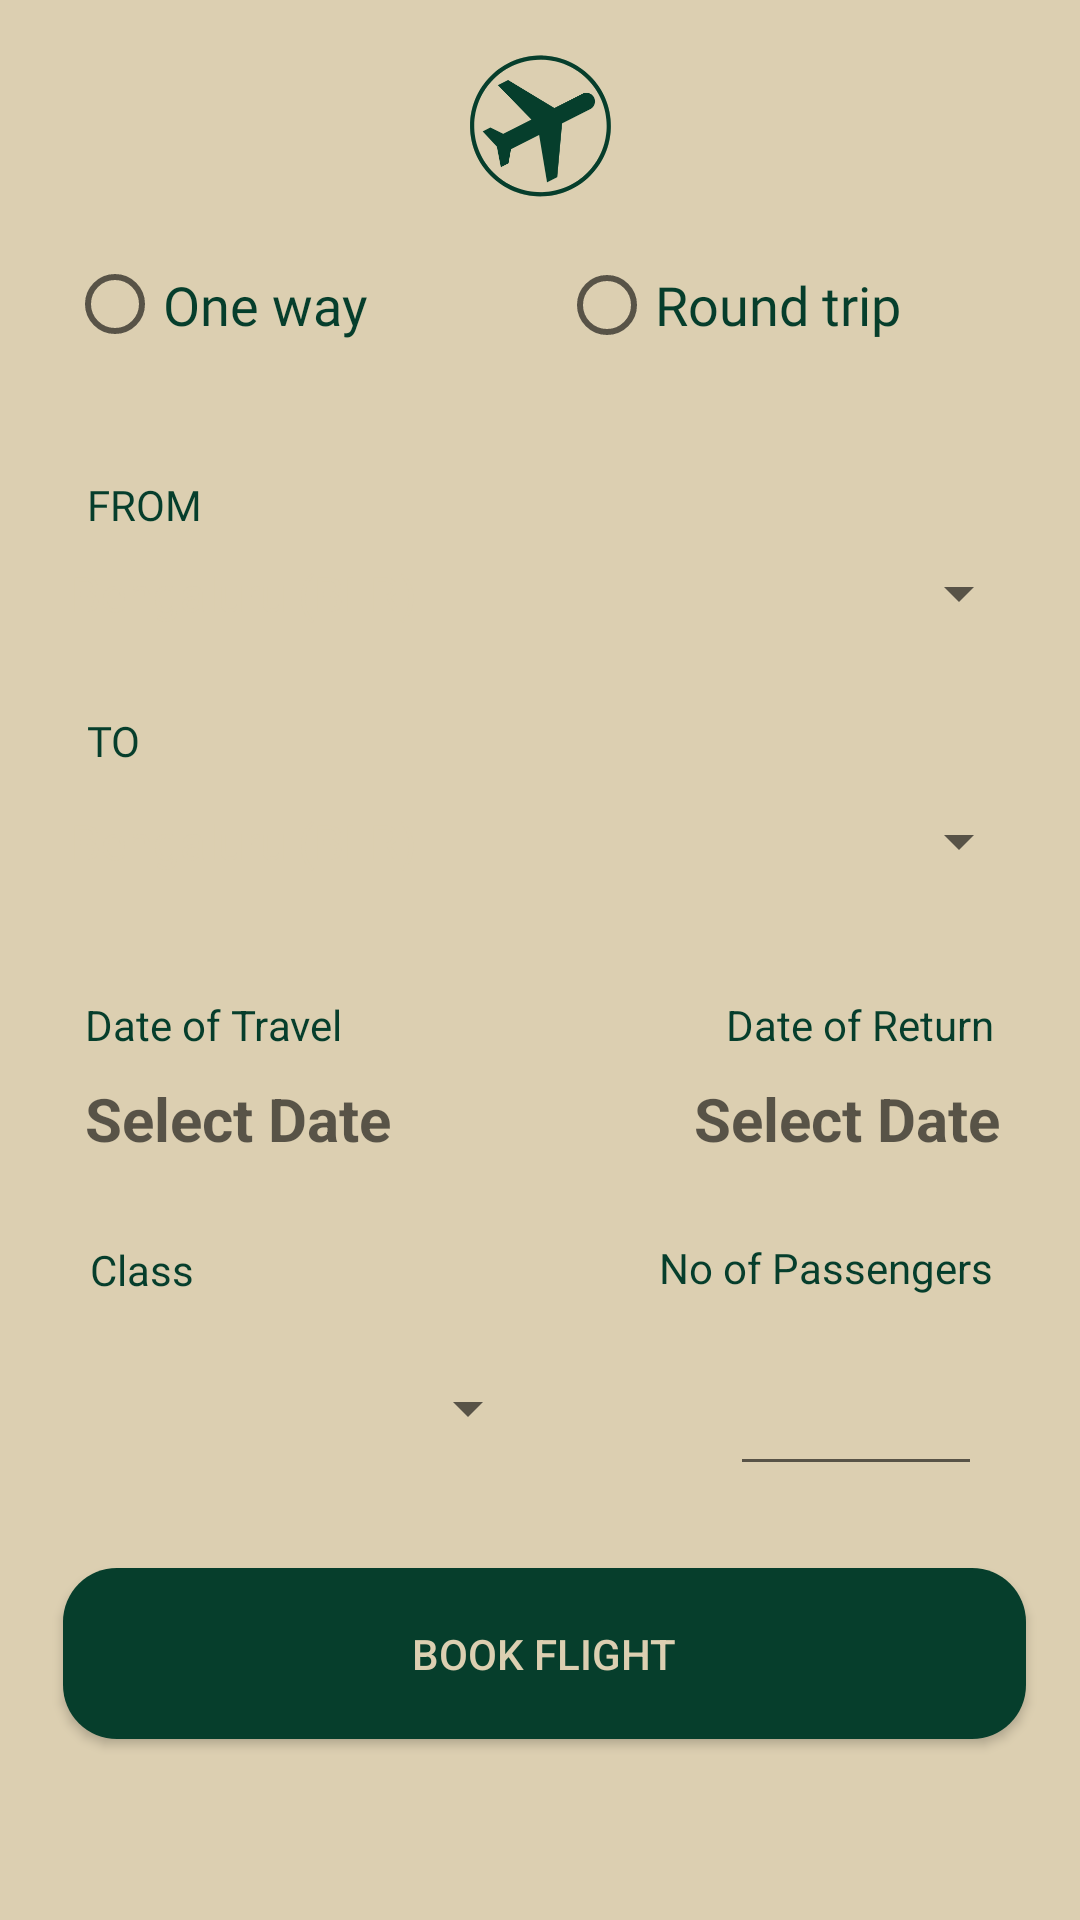

Screen size 1080 × 1920. Icon name, then its center in pixels as (x,y):
flights: (540,126)
